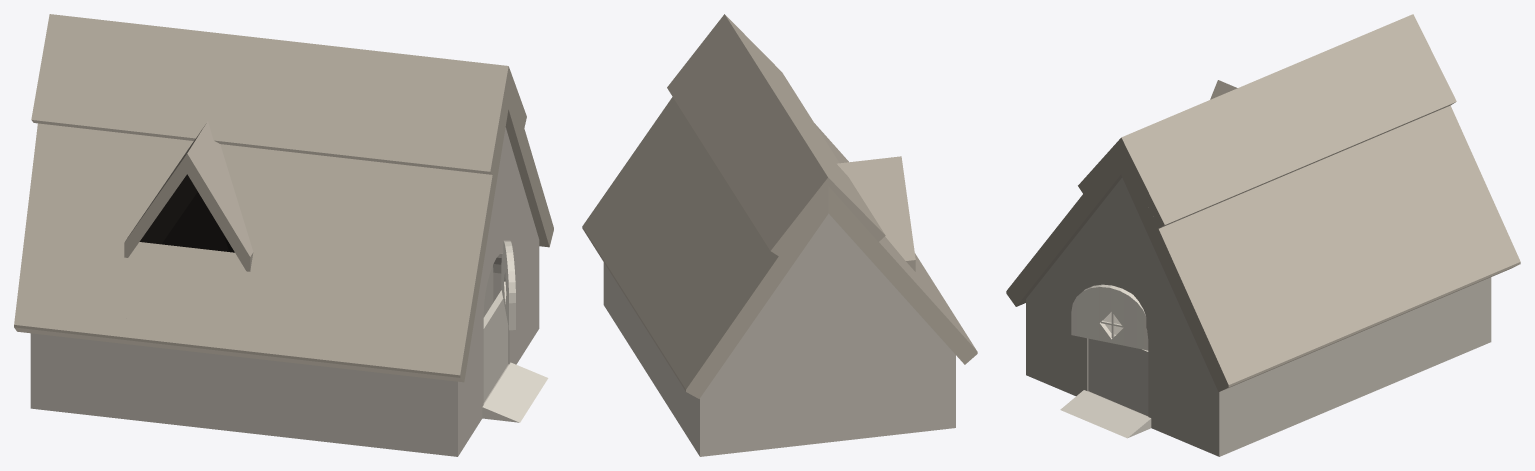
File: cottage-south-west_clay.glb
The picture shows the model from 3 angles, left to right: view 1: azimuth 30°, elevation 25°; view 2: azimuth 150°, elevation 25°; view 3: azimuth 270°, elevation 25°; orthographic projection. The views are drawn at different scales.
Visible parts, largest first — view 1: roofs, walls, frames, openings; view 2: roofs, walls; view 3: roofs, walls, frames.
Boxes of the visible parts, bbox=[...] form: roofs: bbox=[14, 14, 553, 382]; walls: bbox=[30, 127, 539, 456]; frames: bbox=[482, 240, 548, 422]; openings: bbox=[139, 174, 234, 252]; roofs: bbox=[582, 14, 977, 398]; walls: bbox=[603, 213, 955, 456]; roofs: bbox=[1006, 14, 1520, 391]; walls: bbox=[1026, 178, 1491, 456]; frames: bbox=[1060, 284, 1151, 438].
Size of the model in its own units: 6.7 by 4.13 by 6.81.
